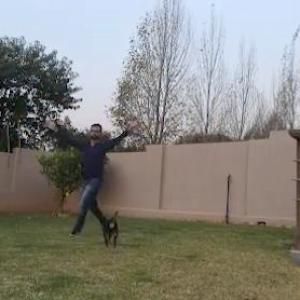takeoff: (77, 107, 177, 233)
